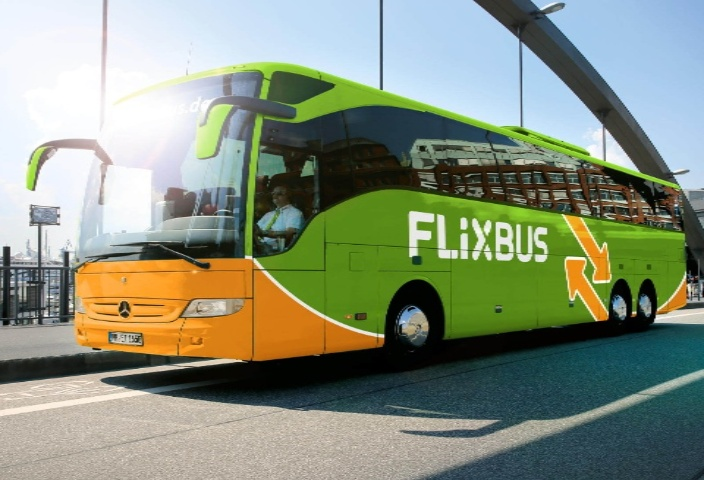bus: (25, 55, 692, 376)
